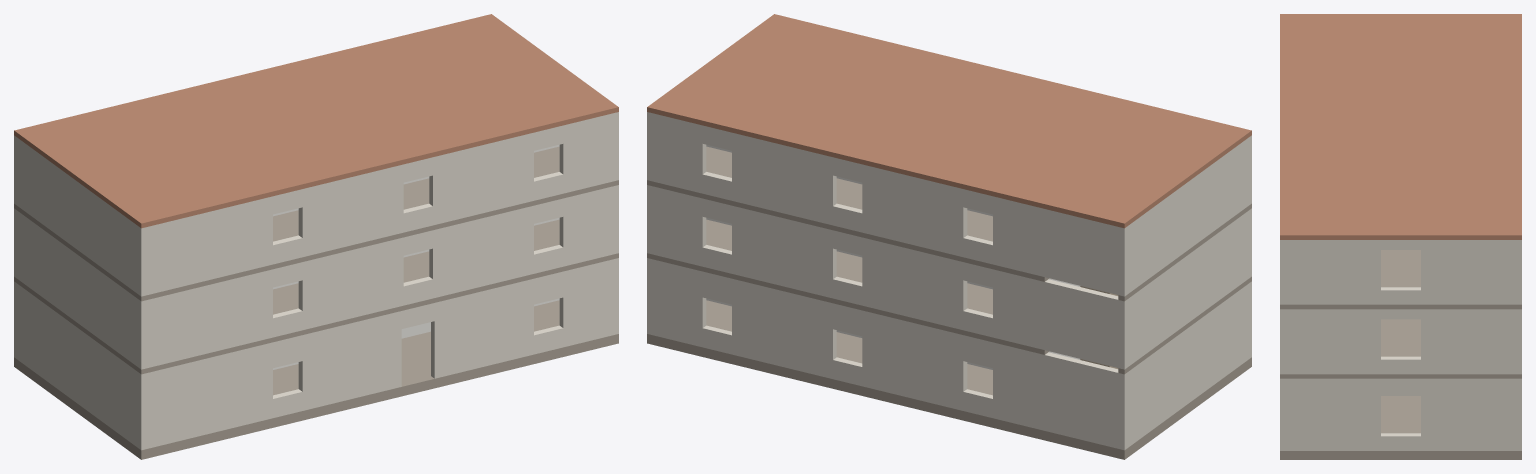
Rendered from pilotb_shop46.glb.
The picture shows the model from 3 angles, left to right: view 1: azimuth 30°, elevation 25°; view 2: azimuth 150°, elevation 25°; view 3: azimuth 270°, elevation 25°; orthographic projection. The views are drawn at different scales.
Parts seen in each view (by area): view 1: Shop46_shell, Shop46_roof, Shop46_slab, Shop46_partition; view 2: Shop46_shell, Shop46_roof, Shop46_slab, Shop46_partition; view 3: Shop46_roof, Shop46_shell, Shop46_slab.
Boxes of the visible parts, left/top/right/bottom form: Shop46_shell: left=14, top=112, right=618, bottom=450; Shop46_roof: left=14, top=14, right=618, bottom=228; Shop46_slab: left=14, top=146, right=618, bottom=459; Shop46_partition: left=273, top=144, right=559, bottom=369; Shop46_shell: left=647, top=112, right=1251, bottom=450; Shop46_roof: left=647, top=14, right=1251, bottom=228; Shop46_slab: left=647, top=146, right=1251, bottom=459; Shop46_partition: left=706, top=144, right=1080, bottom=369; Shop46_roof: left=1280, top=14, right=1521, bottom=239; Shop46_shell: left=1280, top=240, right=1521, bottom=450; Shop46_slab: left=1280, top=250, right=1521, bottom=459.
Size of the model in its own units: 26 by 12.3 by 12.
